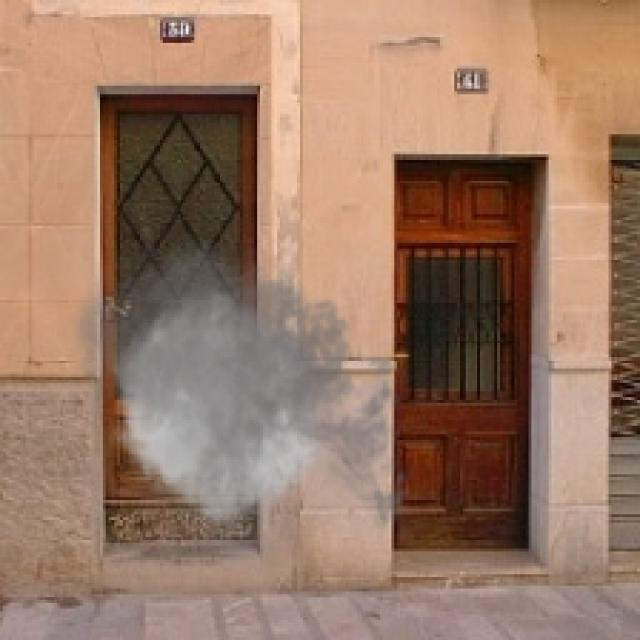smoke: (60, 223, 420, 588)
